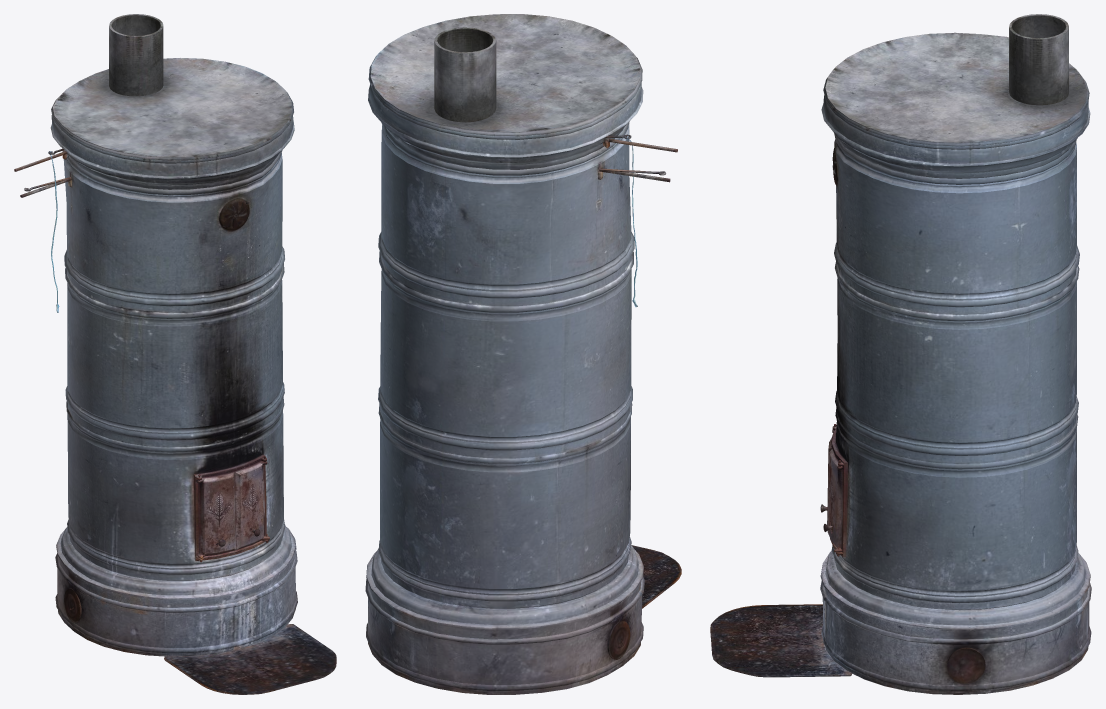
File: scandinavian_masonry_heater.glb
3 renders of one model, left to right at view 1: azimuth 30°, elevation 25°; view 2: azimuth 150°, elevation 25°; view 3: azimuth 270°, elevation 25°, orthographic. The views are drawn at different scales.
Visible parts, largest first — view 1: scandinavian_masonry_heater; view 2: scandinavian_masonry_heater; view 3: scandinavian_masonry_heater.
Part boxes in pixels (<box>): scandinavian_masonry_heater: <box>14,14,336,694</box>; scandinavian_masonry_heater: <box>365,14,681,694</box>; scandinavian_masonry_heater: <box>710,14,1091,694</box>.
Bounding box in the file's own units: 1.17 × 2.36 × 1.34.
1 material, 1 textured.
